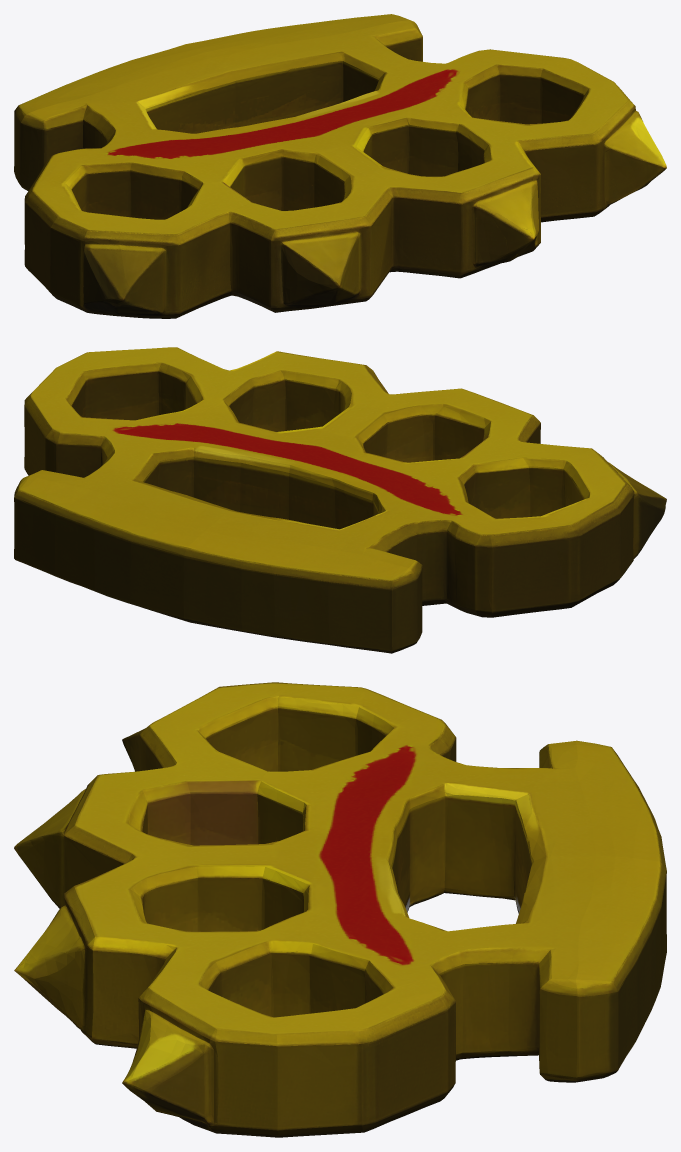
Rendered from mean_streak.glb.
3 renders of one model, top to bottom at view 1: azimuth 30°, elevation 25°; view 2: azimuth 150°, elevation 25°; view 3: azimuth 270°, elevation 25°, orthographic. The views are drawn at different scales.
Parts seen in each view (by area): view 1: world; view 2: world; view 3: world.
Boxes of the visible parts, box(x1,y1,x2,y2) form: world: box(14, 14, 666, 318); world: box(14, 347, 666, 653); world: box(14, 682, 666, 1137).
Bounding box in the file's own units: 0.9919 × 0.1406 × 0.7618.
Materials: 1 (1 with a texture image).
